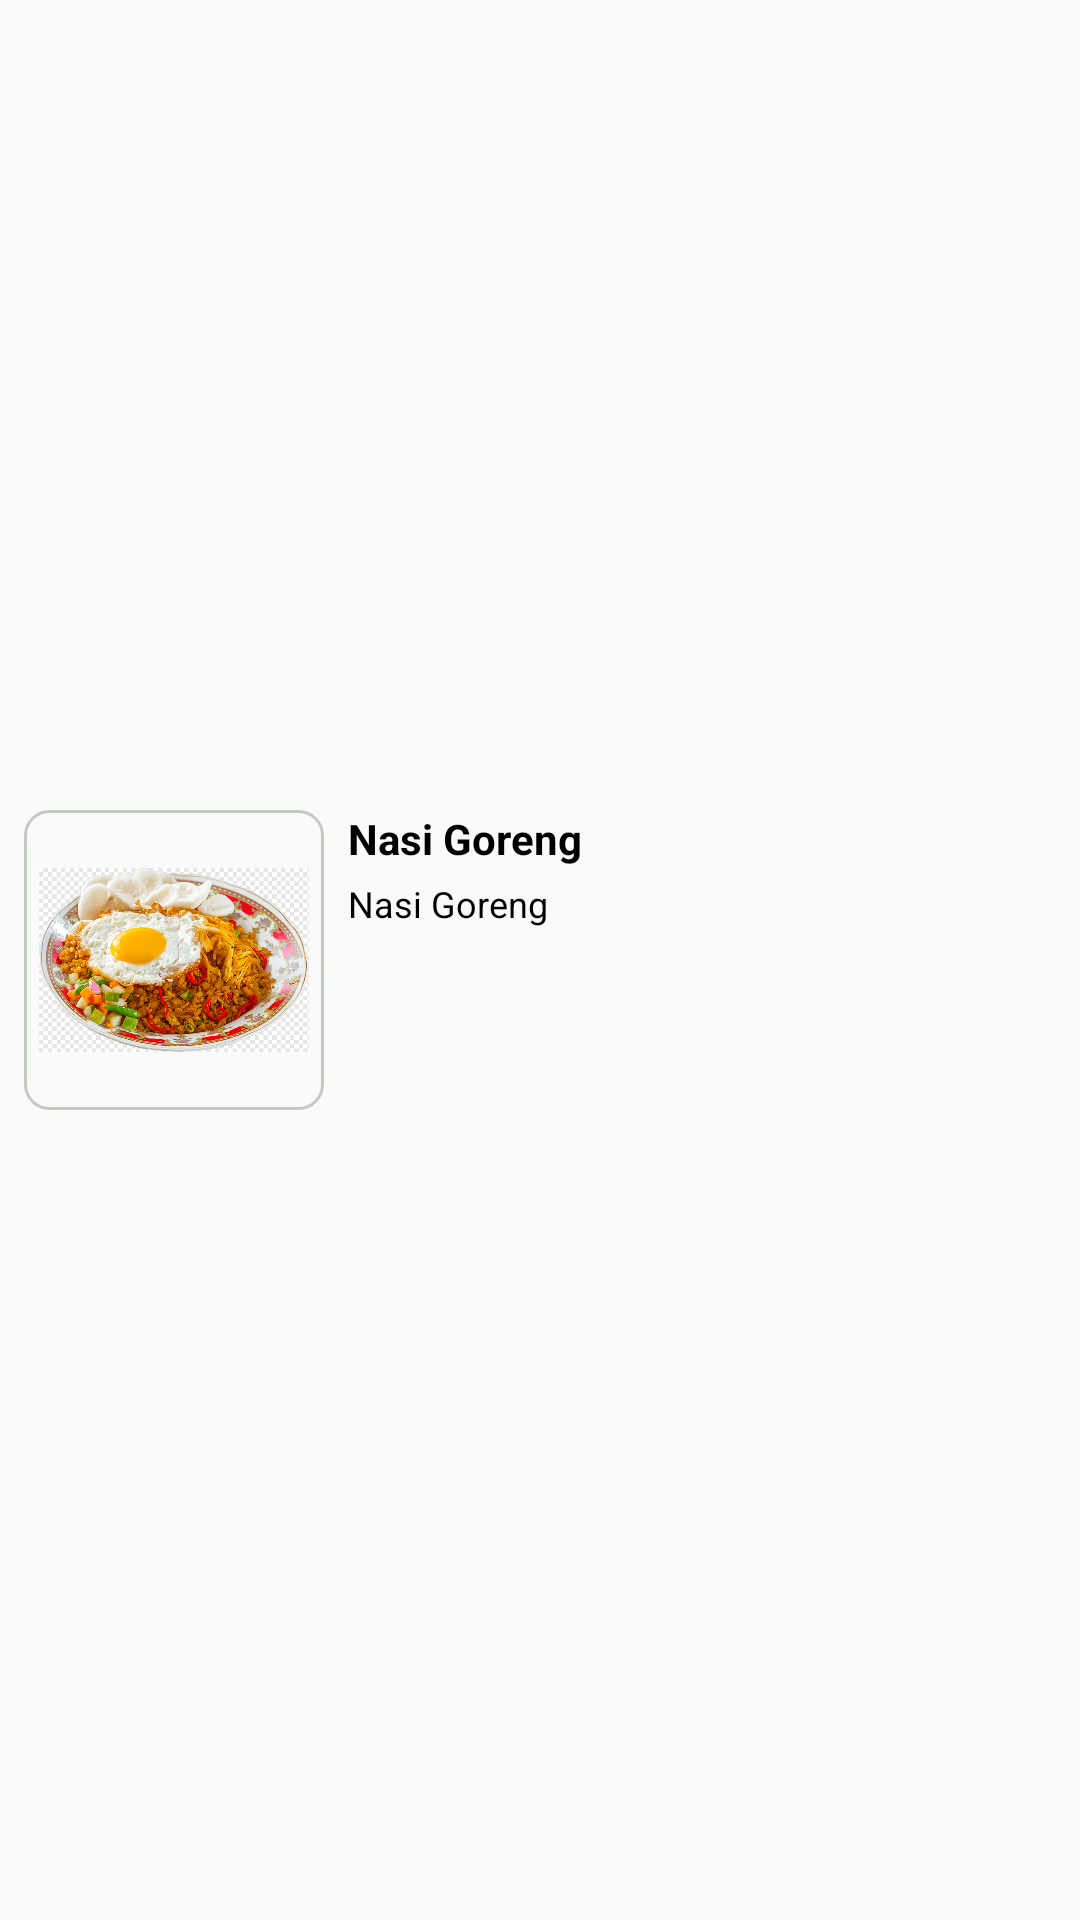

Locate icon controls on the screen. Image size 1080×1920, boxes as (x1, y1, x2, y2).
image list: (24, 810, 324, 1110)
